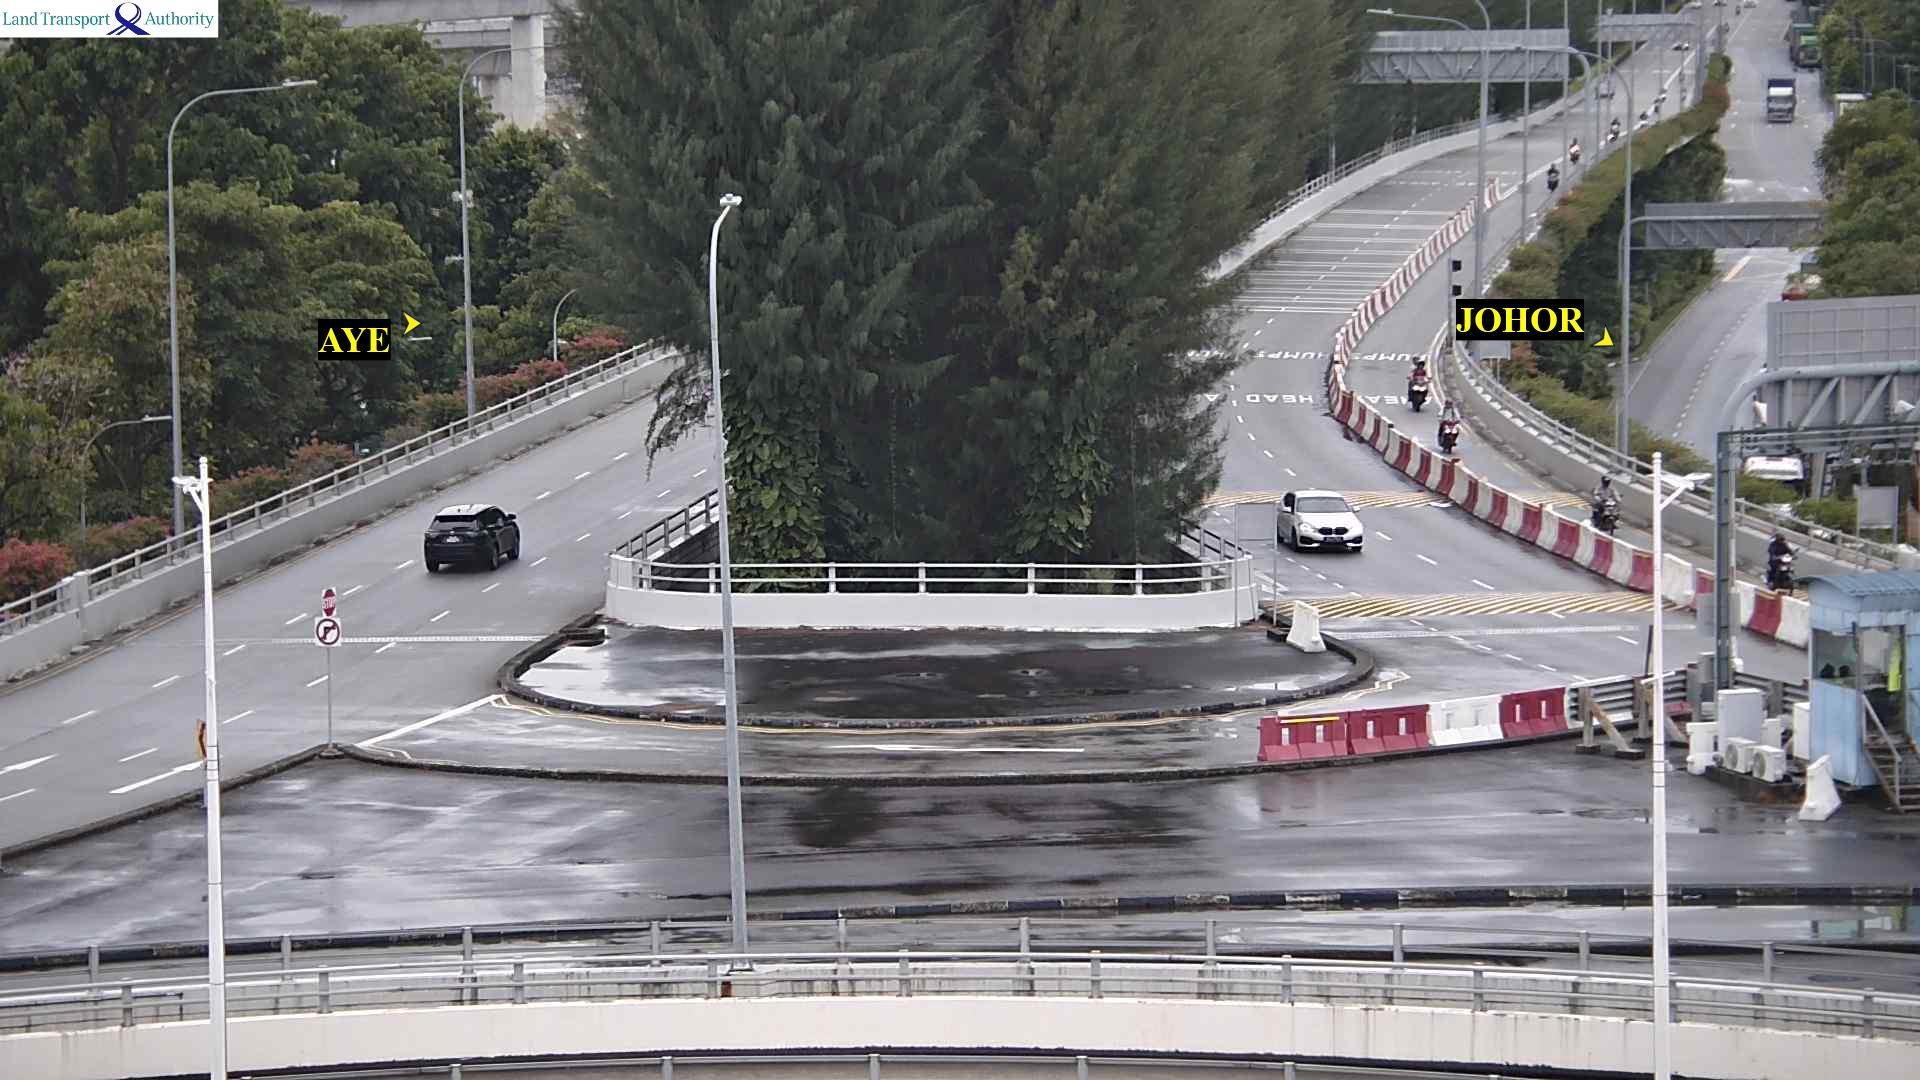vehicle-secondlink-johor: (1275, 484, 1362, 567), (1593, 476, 1622, 535), (1439, 397, 1466, 456), (1768, 535, 1796, 584), (1410, 349, 1424, 410), (1597, 79, 1614, 99), (1545, 162, 1557, 190), (1609, 116, 1622, 138), (1571, 137, 1580, 165)
vehicle-secondlink-singapore: (423, 500, 522, 580)
